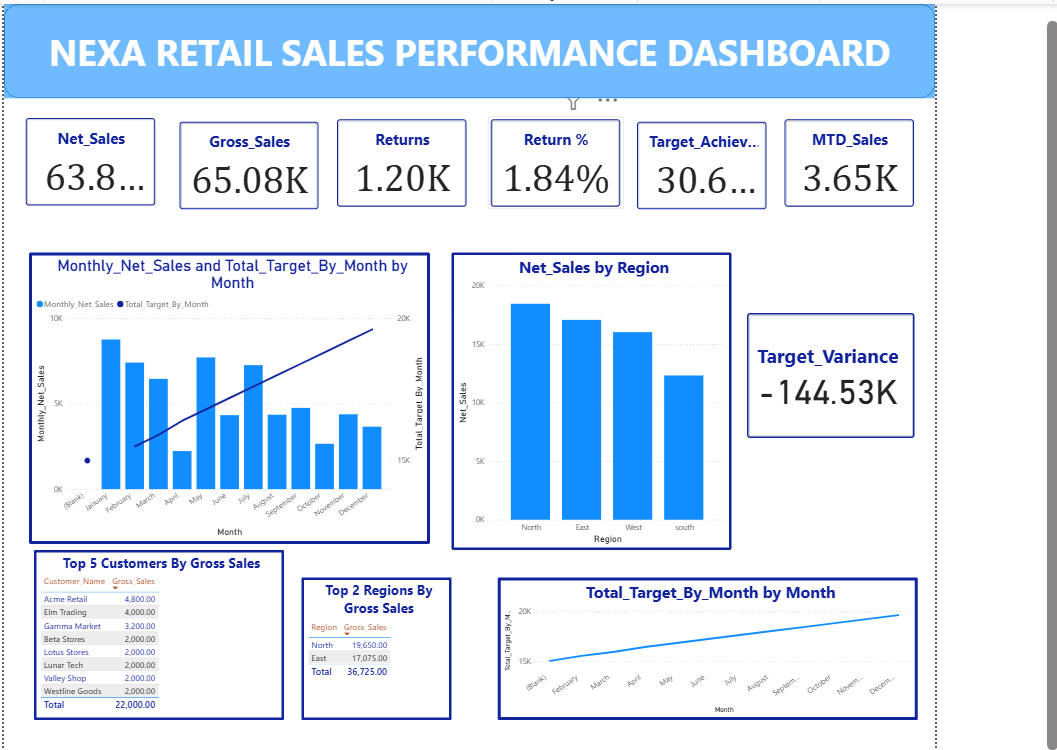

This screenshot's page, from the dashboard's own definition file:
{"tool":"powerbi","page":{"name":"Page 1","canvas":[1490,1200],"ordinal":0},"visuals":[{"type":"cardVisual","fields":{"Data":["customers.Gross_Sales"]},"box":[305.7,189.5,232.3,150.8],"z":0},{"type":"cardVisual","fields":{"Data":["customers.Returns"]},"box":[562.5,183.4,275.1,150.8],"z":1000},{"type":"cardVisual","fields":{"Data":["customers.Net_Sales"]},"box":[30.6,183.4,260.9,150.8],"z":2000},{"type":"cardVisual","fields":{"Data":["customers.Return_Rate"]},"box":[849,183.4,254.8,150.8],"z":3000},{"type":"cardVisual","fields":{"Data":["customers.MTD_Sales"]},"box":[1182.1,760.2,277.2,128.4],"z":4000},{"type":"lineClusteredColumnComboChart","title":"Monthly Net Sales and Total Target By Month","fields":{"Y2":["DateTable.Total_Target_By_Month"],"Category":["MonthTable.MonthStart.Variation.Date Hierarchy.Month"],"Y":["customers.Monthly_Net_Sales"]},"box":[40.8,381.1,642,466.7],"z":5000},{"type":"tableEx","title":"Top 5 Customers By Gross Sales","fields":{"Values":["customers.Column2","customers.Gross_Sales"]},"box":[48.9,878.4,513.6,322],"z":6000},{"type":"cardVisual","fields":{"Data":["DateTable.Target_Achievement%"]},"box":[1118.9,183.4,326.1,150],"z":8000},{"type":"cardVisual","fields":{"Data":["DateTable.Target_Variance"]},"box":[1182.1,611.4,277.2,132.5],"z":9000},{"type":"clusteredColumnChart","fields":{"Category":["RegionTable.Region"],"Y":["customers.Net_Sales"]},"box":[715.4,379.1,448.4,476.9],"z":10000},{"type":"shape","box":[0,6.1,1489.8,150.8],"z":11000},{"type":"areaChart","title":"Total Target By Month by Month","fields":{"Category":["MonthTable.MonthStart.Variation.Date Hierarchy.Month"],"Y":["DateTable.Total_Target_By_Month"]},"box":[595.1,923.2,868.2,252.7],"z":12001},{"type":"advancedSlicerVisual","fields":{"Values":["RegionTable.Region"]},"box":[1206.5,379.1,252.7,201.8],"z":12002}]}

Visuals, with their boxes on the page's 1490x1200 design canvas (x1, y1, x2, y2). These are canvas units, not pixel positions in the 1057x750 screenshot, which may show the page scaled, cropped or inside an application window:
cardVisual - customers.Gross_Sales: box=[306, 190, 538, 340]
cardVisual - customers.Returns: box=[562, 183, 838, 334]
cardVisual - customers.Net_Sales: box=[31, 183, 292, 334]
cardVisual - customers.Return_Rate: box=[849, 183, 1104, 334]
cardVisual - customers.MTD_Sales: box=[1182, 760, 1459, 889]
"Monthly Net Sales and Total Target By Month" lineClusteredColumnComboChart: box=[41, 381, 683, 848]
"Top 5 Customers By Gross Sales" tableEx: box=[49, 878, 562, 1200]
cardVisual - DateTable.Target_Achievement%: box=[1119, 183, 1445, 333]
cardVisual - DateTable.Target_Variance: box=[1182, 611, 1459, 744]
clusteredColumnChart - RegionTable.Region x customers.Net_Sales: box=[715, 379, 1164, 856]
shape: box=[0, 6, 1490, 157]
"Total Target By Month by Month" areaChart: box=[595, 923, 1463, 1176]
advancedSlicerVisual - RegionTable.Region: box=[1206, 379, 1459, 581]
